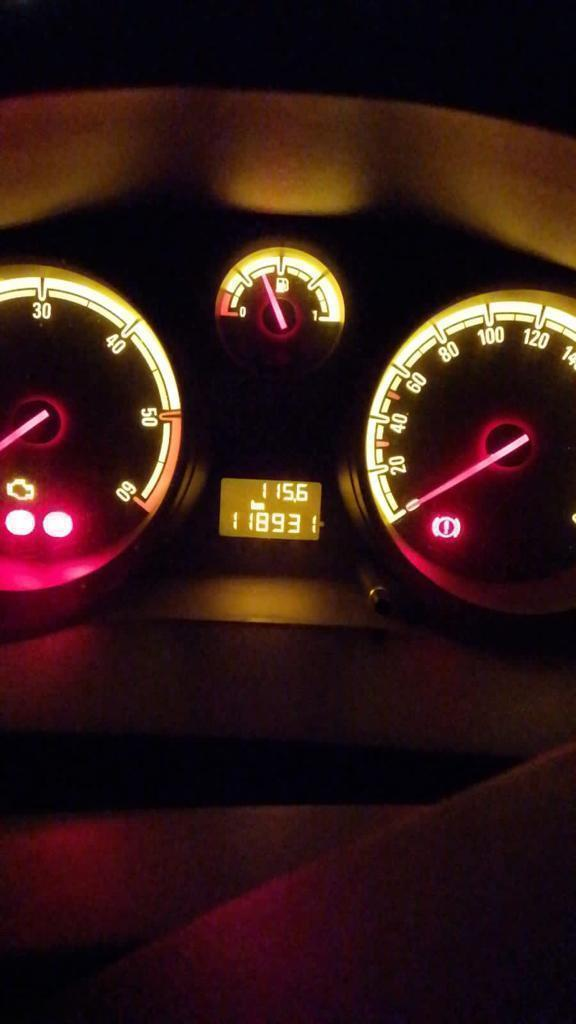,: (292, 497, 296, 504)
1: (231, 510, 239, 533), (311, 513, 317, 535), (248, 510, 253, 533), (261, 481, 267, 500), (276, 481, 280, 501)
3: (288, 512, 300, 534)
5: (282, 482, 294, 500)
6: (296, 482, 308, 501)
8: (255, 511, 269, 532)
9: (271, 512, 284, 534)
X: (250, 498, 257, 509), (257, 502, 265, 510)
odometer: (215, 474, 324, 542)
